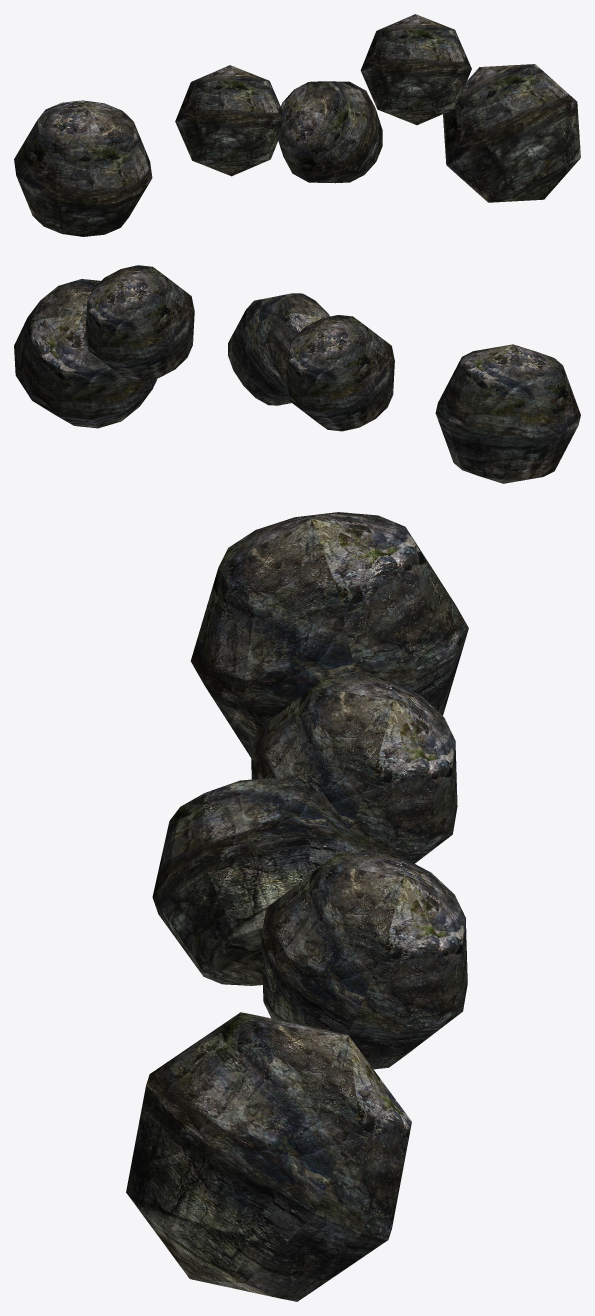
The model's file is rocks2.obj.
3 views of the same model, one above another, from view 1: azimuth 30°, elevation 25°; view 2: azimuth 150°, elevation 25°; view 3: azimuth 270°, elevation 25° (orthographic). The views are drawn at different scales.
Parts seen in each view (by area): view 1: rocks2_Sphere.002; view 2: rocks2_Sphere.002; view 3: rocks2_Sphere.002.
Part boxes in pixels (x1,y1,x2,y2): rocks2_Sphere.002: [14, 14, 580, 236]; rocks2_Sphere.002: [14, 265, 580, 483]; rocks2_Sphere.002: [126, 512, 468, 1301].
Bounding box in the file's own units: 8.79 × 2.88 × 2.44.
1 material, 1 textured.
